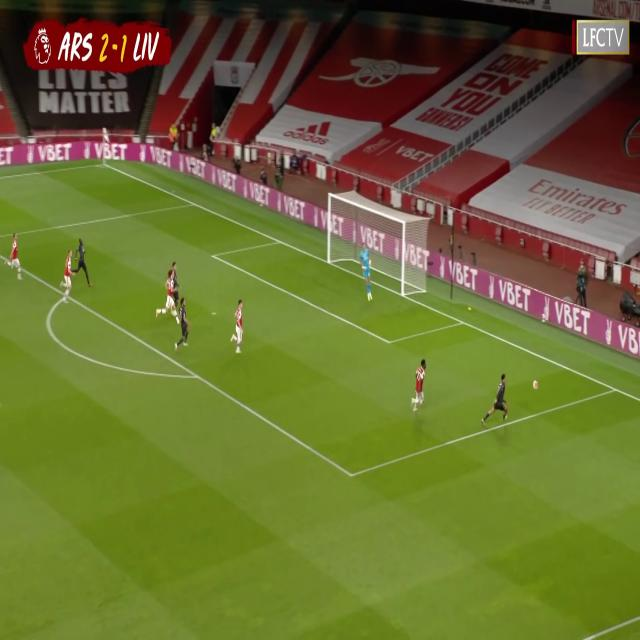ball: (532, 381, 539, 392)
team1: (175, 296, 192, 354), (73, 240, 91, 288), (230, 298, 245, 352), (412, 361, 425, 408), (173, 256, 180, 305)
team2: (481, 374, 511, 427), (157, 269, 175, 322), (58, 248, 72, 309), (8, 233, 22, 280)
